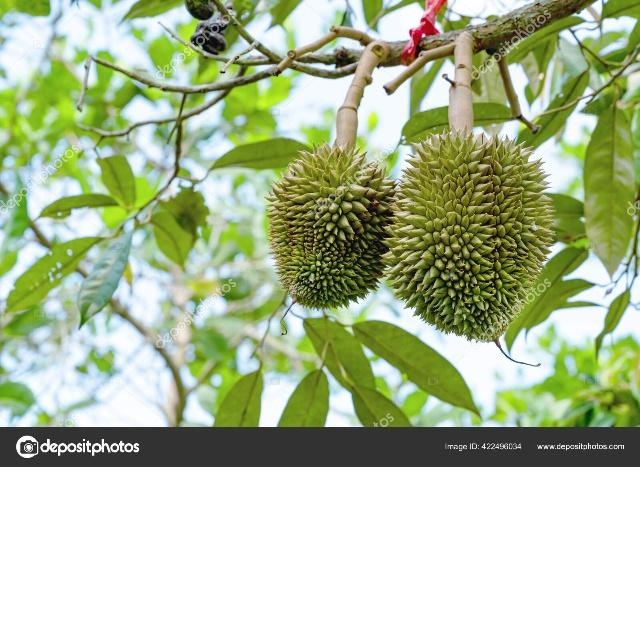sau_rieng: (391, 128, 553, 344), (266, 144, 392, 311)
